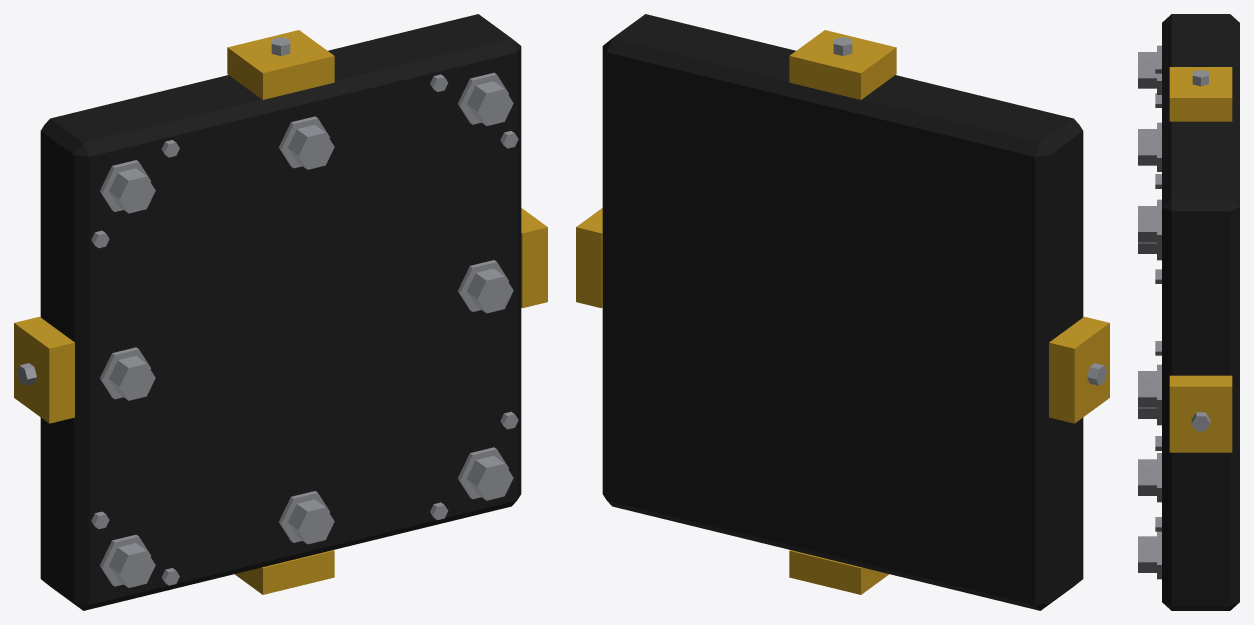
Rendered from tr20k_flange.obj.
3 renders of one model, left to right at view 1: azimuth 30°, elevation 25°; view 2: azimuth 150°, elevation 25°; view 3: azimuth 270°, elevation 25°, orthographic. The views are drawn at different scales.
Visible parts, largest first — view 1: tr20k_flange; view 2: tr20k_flange; view 3: tr20k_flange.
Boxes of the visible parts, box(x1,y1,x2,y2) form: tr20k_flange: box(14, 14, 547, 610); tr20k_flange: box(576, 14, 1109, 610); tr20k_flange: box(1138, 14, 1239, 610).
Bounding box in the file's own units: 1.62 × 1.62 × 0.3135.
